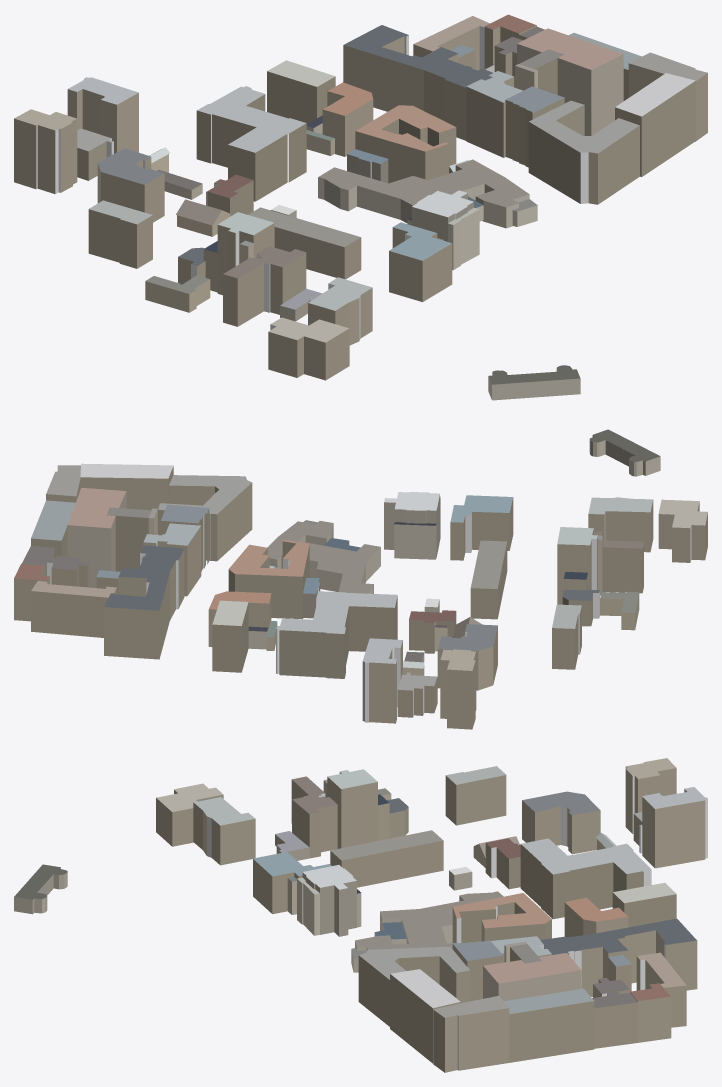
3 renders of one model, top to bottom at view 1: azimuth 30°, elevation 25°; view 2: azimuth 150°, elevation 25°; view 3: azimuth 270°, elevation 25°, orthographic. The views are drawn at different scales.
Visible parts, largest first — view 1: tuile; view 2: tuile; view 3: tuile.
Boxes of the visible parts, <box> form: tuile: <box>14,14,707,400</box>; tuile: <box>14,429,707,729</box>; tuile: <box>14,758,707,1072</box>.
Bounding box in the file's own units: 234 × 28.16 × 258.
